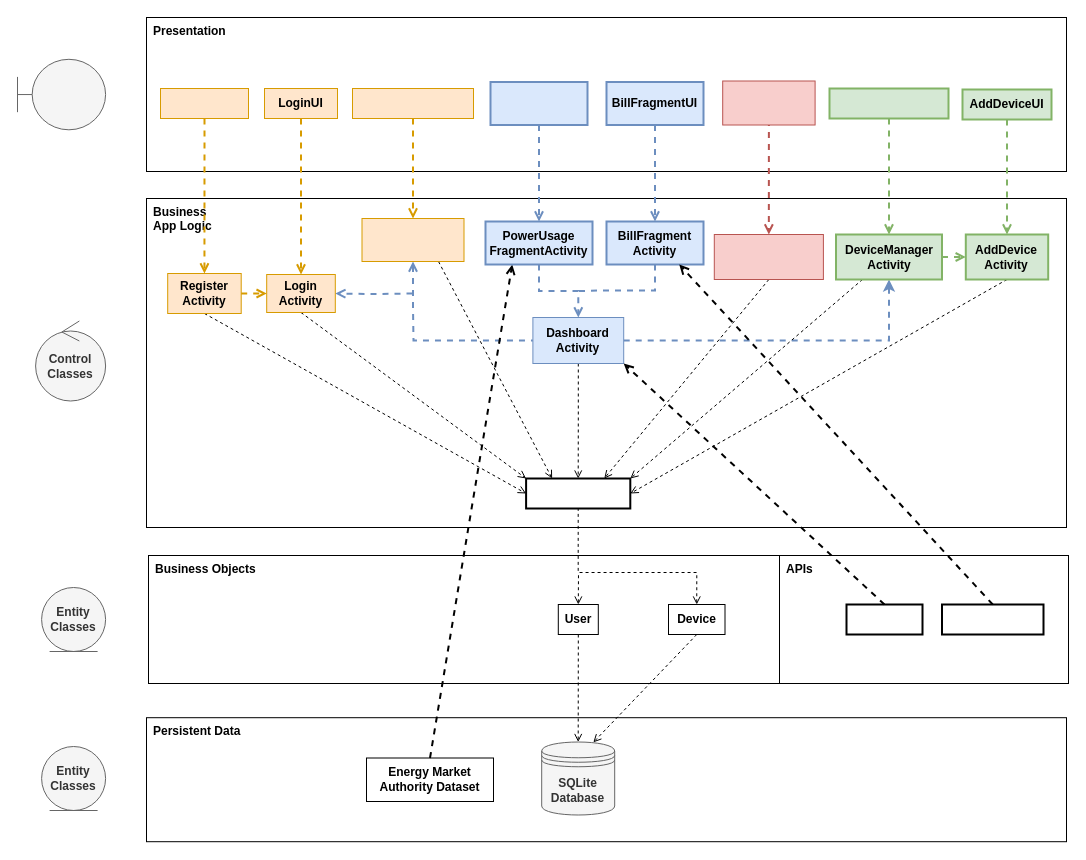
The diagram is 1086 pixels wide and 860 high, and some of its shapes have lost their labels. Here are the shapes that lost their labels. From the top down, the centre of each, then its label:
point 61,94: Boundary Classes
point 204,103: RegisterUI
point 413,103: UpdateDetailsUI
point 538,103: PowerUsage FragmentUI
point 768,102: Admin DashboardUI
point 888,103: DeviceManagerUI
point 412,240: UpdateDetails Activity
point 768,257: AdminDashboard Activity
point 578,493: DatabaseHelper
point 884,619: EmailAPI
point 992,619: SingStatsAPI
